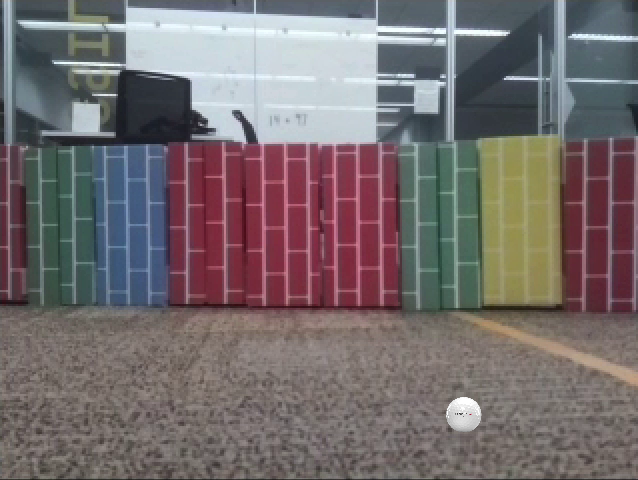cube: (362, 190, 486, 320)
